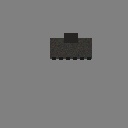armoured_vehicle: (50, 38, 92, 59)
